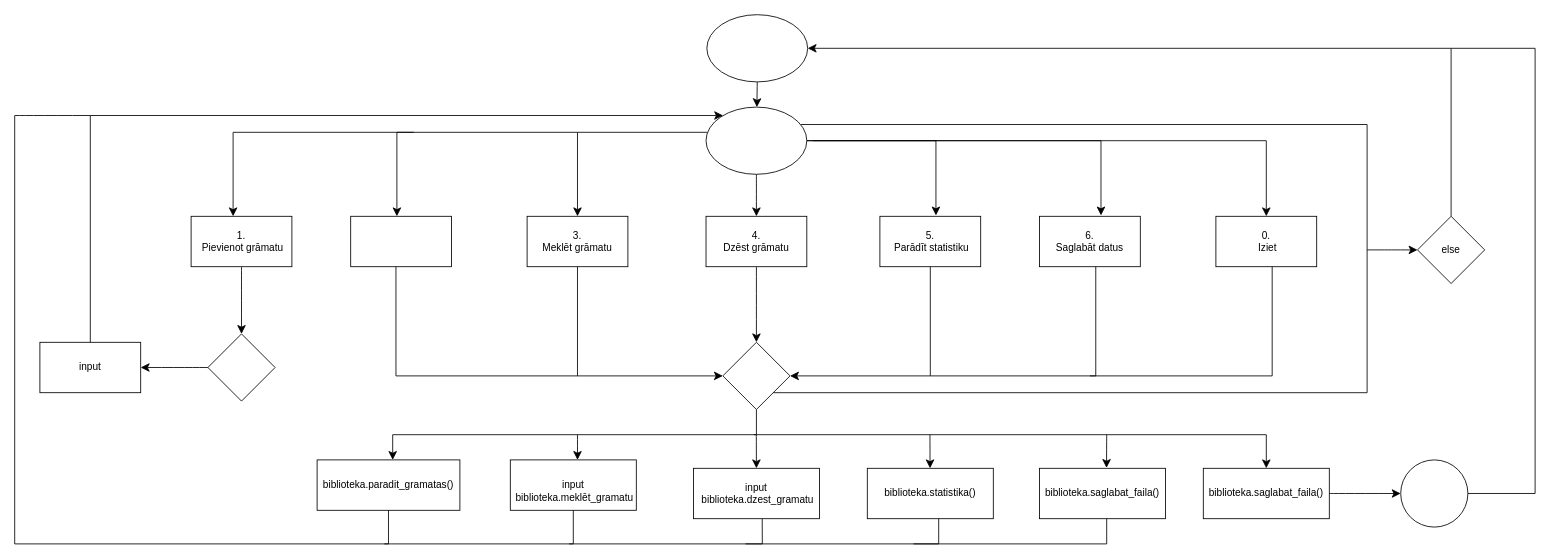
The diagram is 1551 pixels wide and 559 high, and some of its shapes have lost their labels. The centre of each missing label's shape, as x and y in pixels:
2. Parādīt visas grāmatas: point (401, 241)
break: point (1434, 493)
CHOISE: point (756, 140)
elif: point (756, 375)
if: point (241, 367)
START: point (757, 48)
